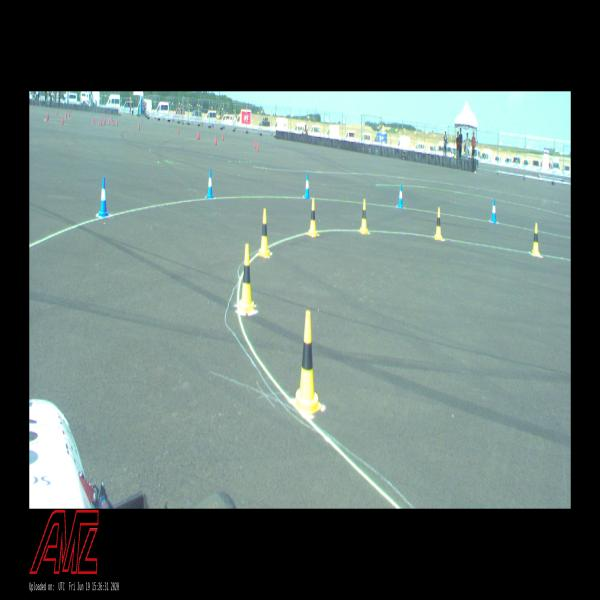blue_cone: (97, 176, 109, 216), (206, 169, 214, 198), (304, 174, 311, 198), (398, 184, 404, 209), (491, 199, 497, 223)
yellow_cone: (294, 311, 322, 414), (238, 244, 254, 314), (258, 209, 271, 257), (308, 199, 318, 237), (531, 223, 541, 256), (434, 208, 443, 240), (360, 199, 368, 234)
